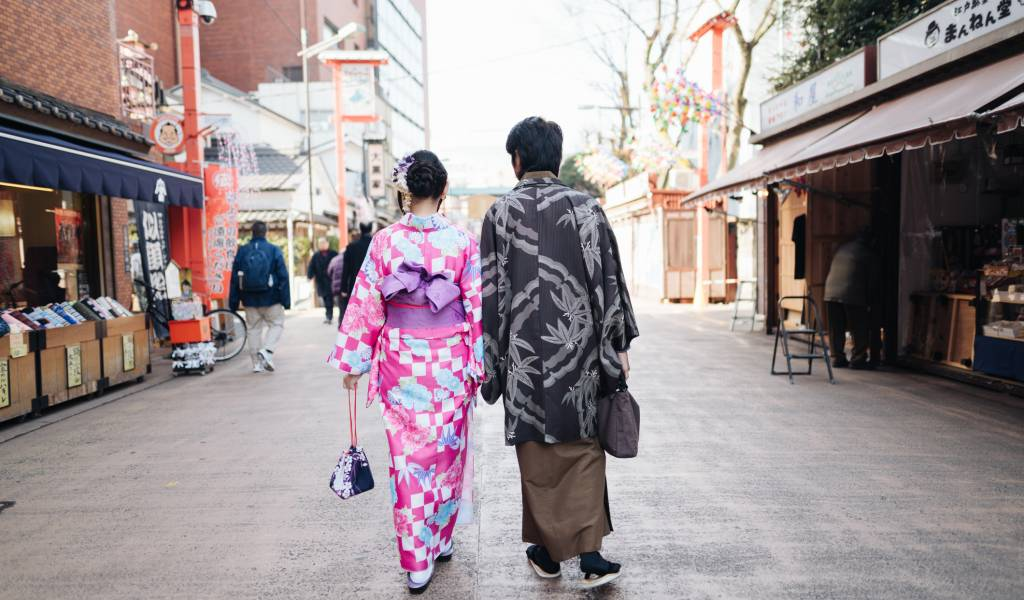person: (475, 105, 639, 589), (334, 137, 500, 600), (212, 218, 299, 377)
